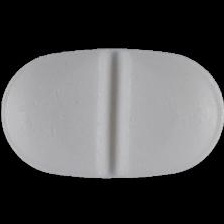67386-314: (0, 0, 224, 224)
